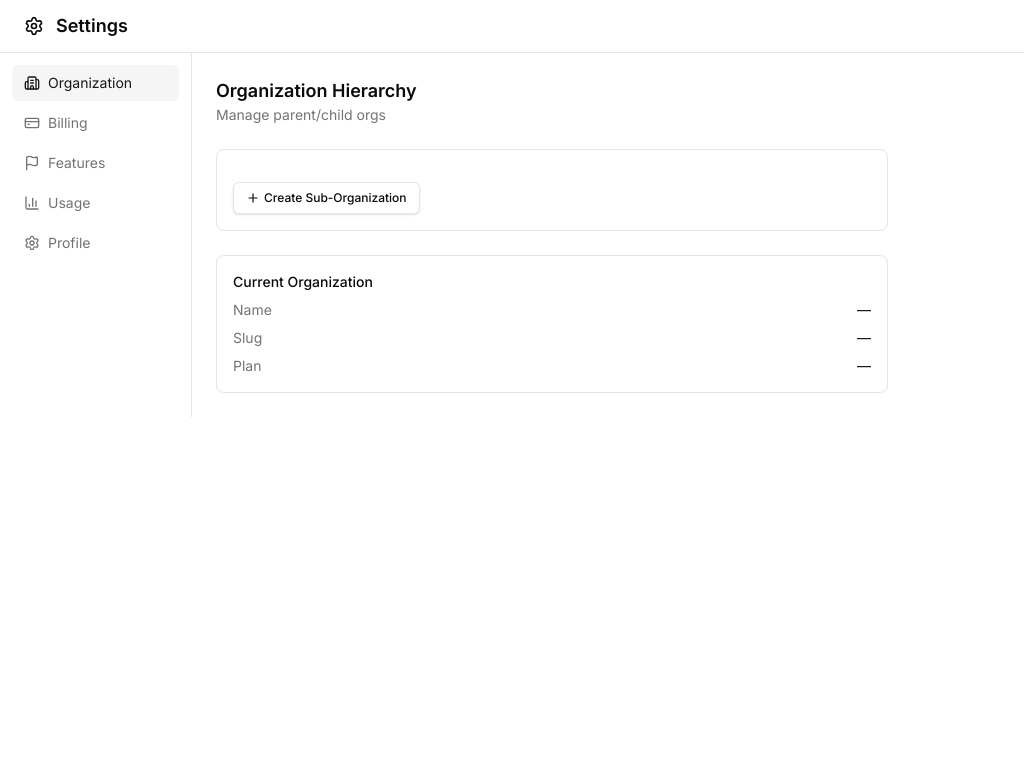
SettingsPage › validates empty name on sub-org creation
Click the button "Create Sub-Organization".
click(326, 198)  # box [233,182,420,214]
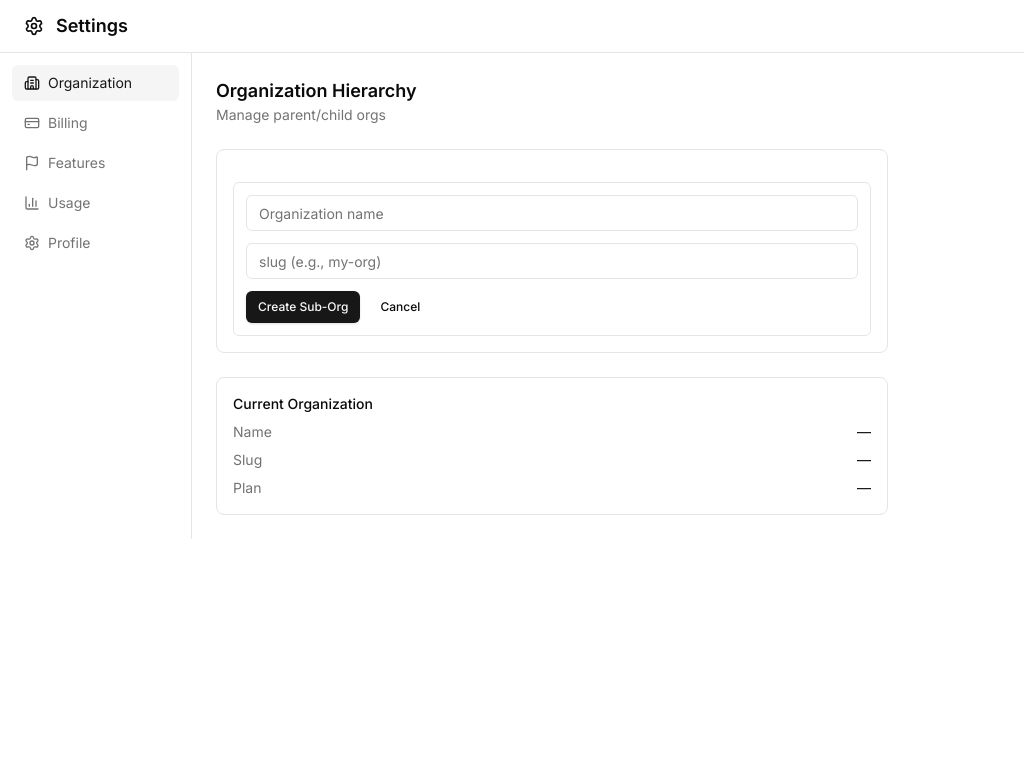
Click the button "Create Sub-Org".
click(303, 307)  # box [246,291,360,323]
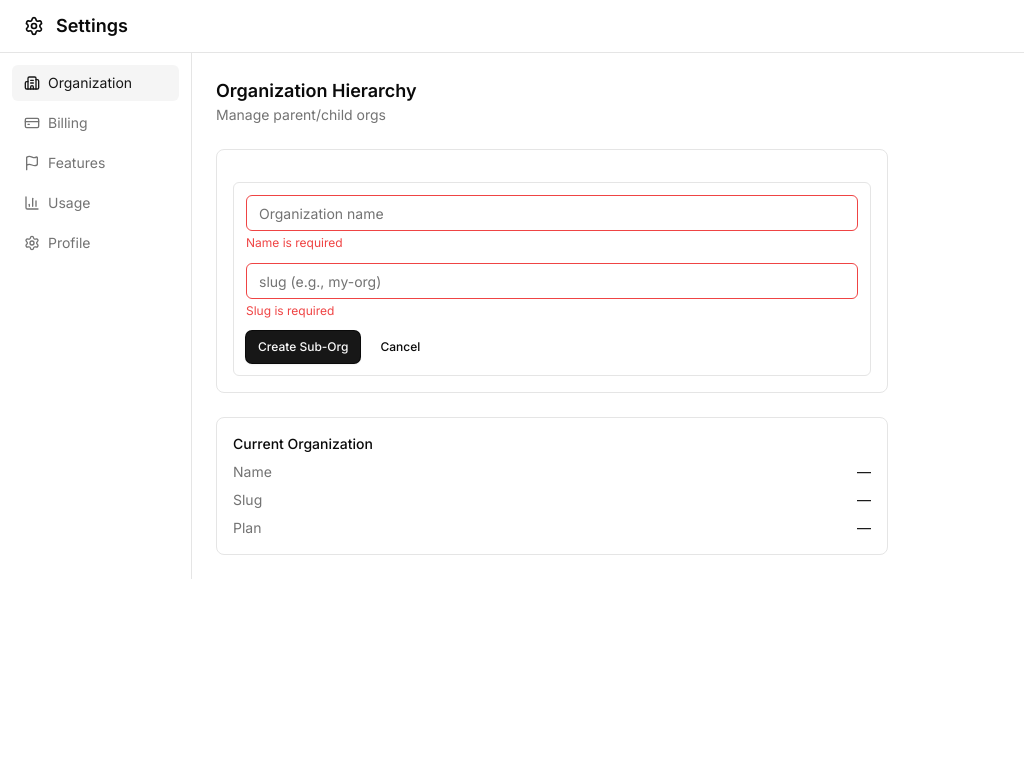
Result: the text "Name is required" is shown at [246,235,343,250]
